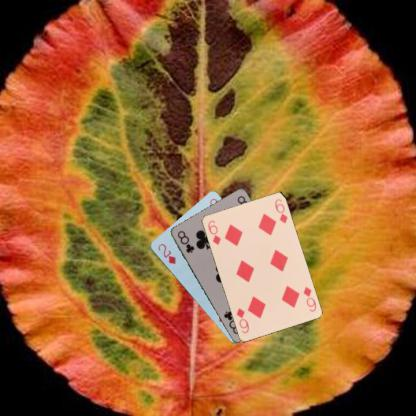2d: (155, 241, 177, 265)
6d: (300, 284, 318, 312), (205, 217, 222, 246)
8c: (174, 228, 196, 254)
